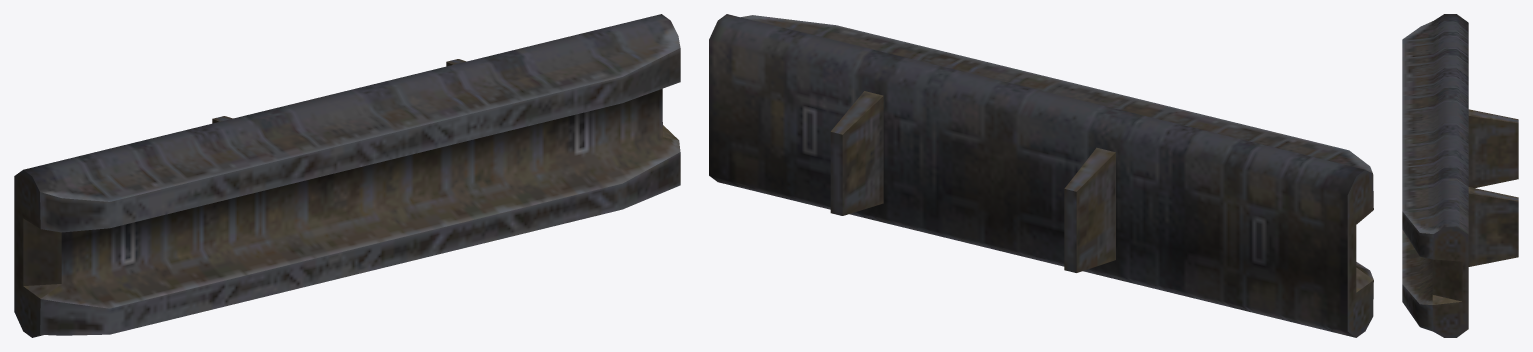
The picture shows the model from 3 angles, left to right: view 1: azimuth 30°, elevation 25°; view 2: azimuth 150°, elevation 25°; view 3: azimuth 270°, elevation 25°; orthographic projection. The views are drawn at different scales.
Visible parts, largest first — view 1: set_0_group_0; view 2: set_0_group_0; view 3: set_0_group_0.
Part boxes in pixels (bbox=[...]): set_0_group_0: bbox=[14, 14, 680, 337]; set_0_group_0: bbox=[709, 14, 1373, 337]; set_0_group_0: bbox=[1402, 14, 1518, 337].
Bounding box in the file's own units: 0.8998 × 0.2176 × 0.2077.
1 material, 1 textured.
